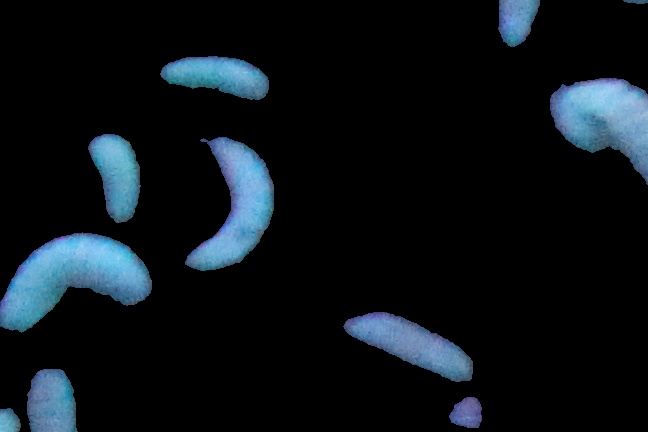larvae: (1, 232, 153, 335), (186, 134, 276, 274), (337, 308, 482, 384), (548, 74, 648, 182), (156, 47, 271, 102), (87, 133, 144, 220), (21, 365, 80, 432)
